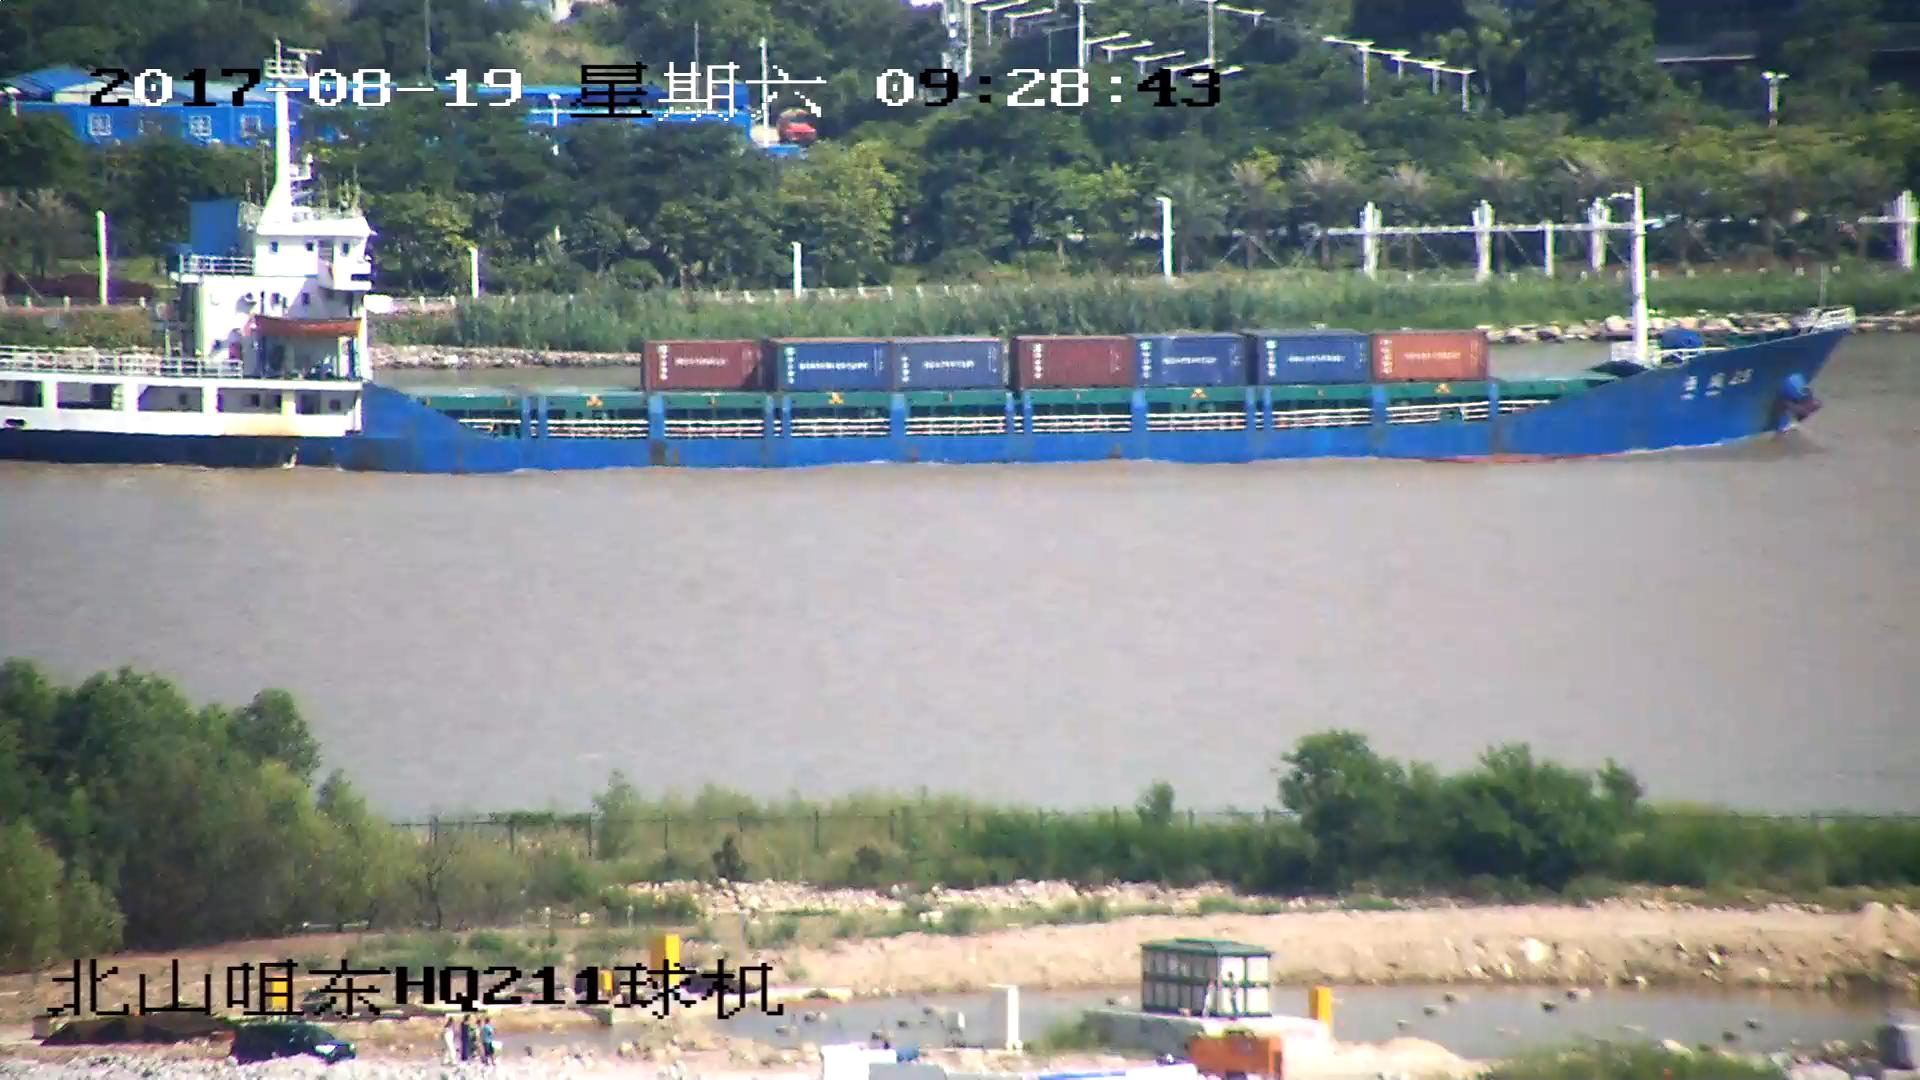general cargo ship: (1, 111, 1845, 464)
